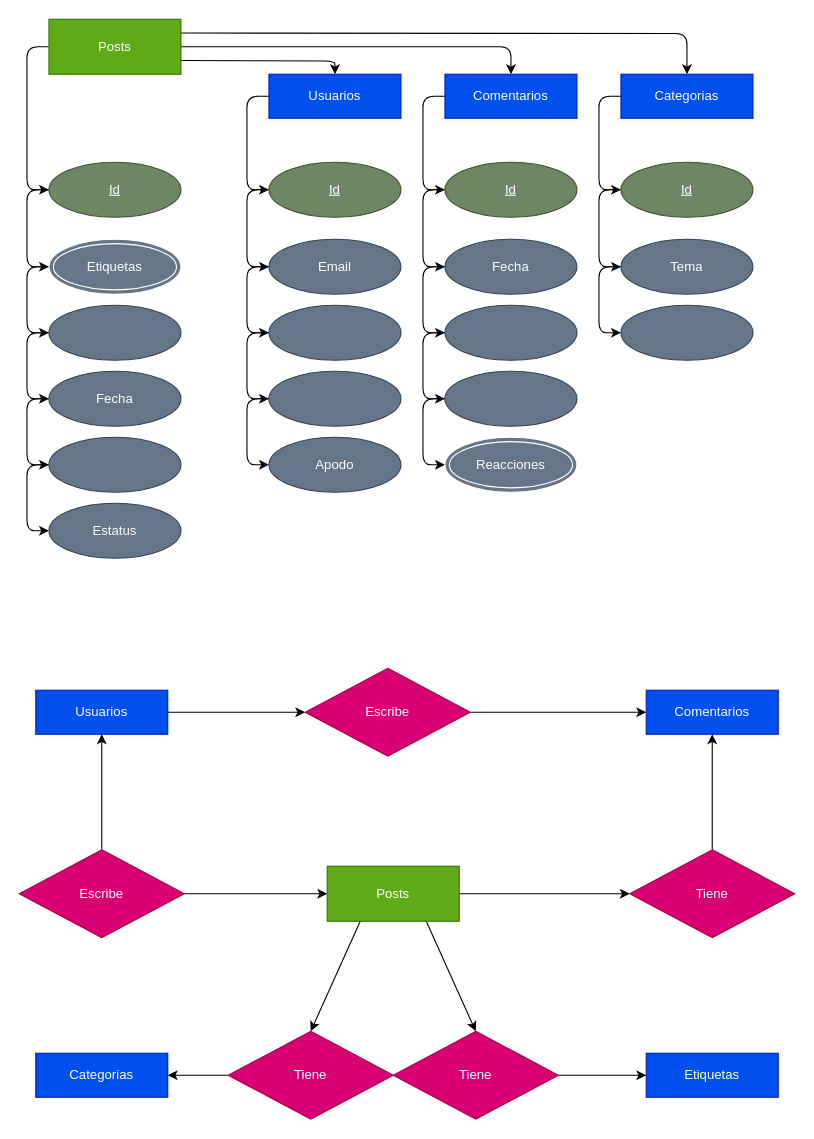
This 814x1139 diagram has some shape labels left out. Here are the shapes that lost their labels. From the top down, the box of each, then its label:
(48, 304, 181, 360): Titulo
(268, 304, 401, 360): Login
(444, 304, 577, 360): Id Post
(620, 304, 753, 360): Etiqueta
(268, 370, 401, 426): Password
(444, 370, 577, 426): Id User
(48, 436, 181, 492): Contenido
